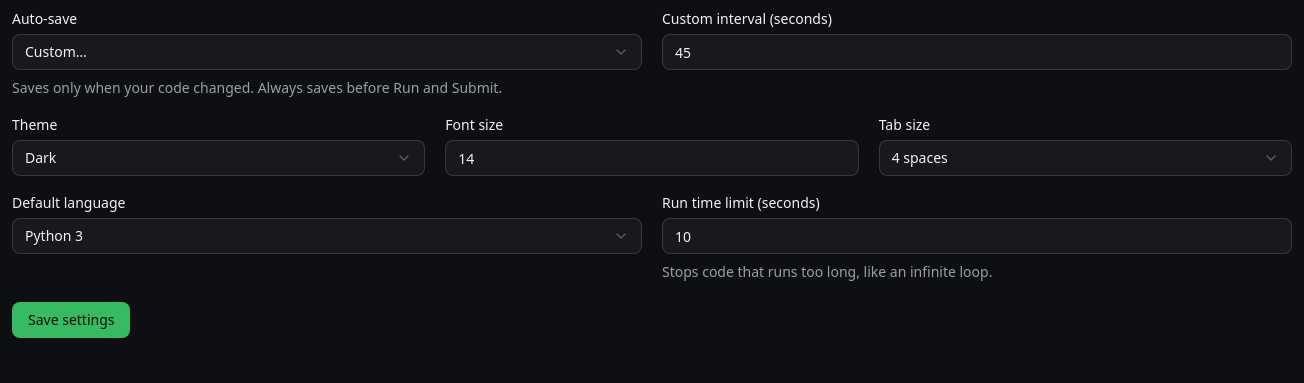
Test: EditorSettingsForm › shows a message for a non-numeric font size
Replace the text in the field labelled "Font size" with "big". click: (652, 158)
box: [445, 140, 859, 176]
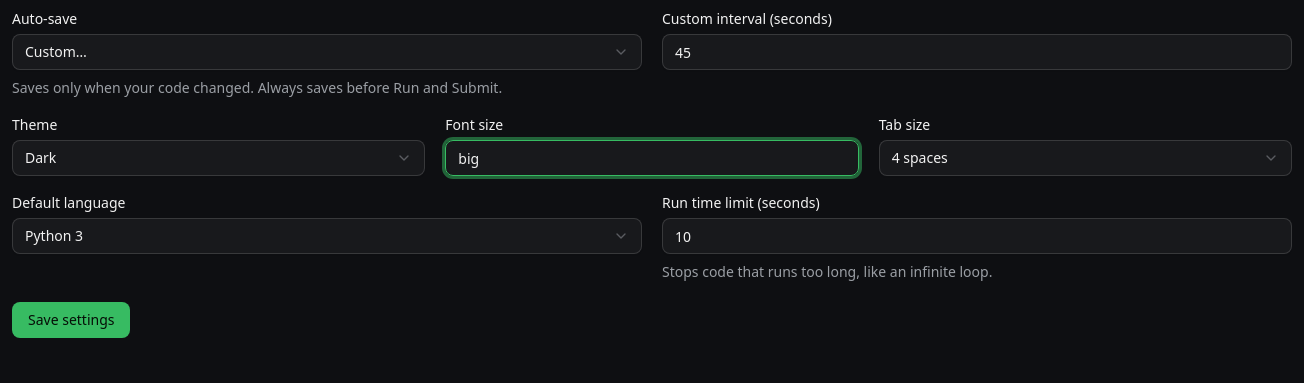
Click the button "Save settings". click: click(71, 320)
box: [12, 302, 130, 338]
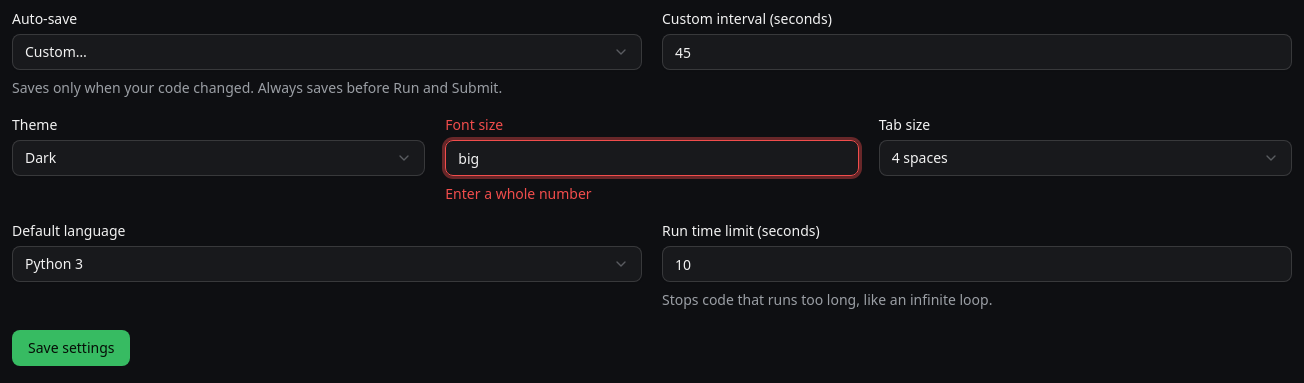
Expected: the text "Enter a whole number" is shown, [445, 184, 592, 203]
